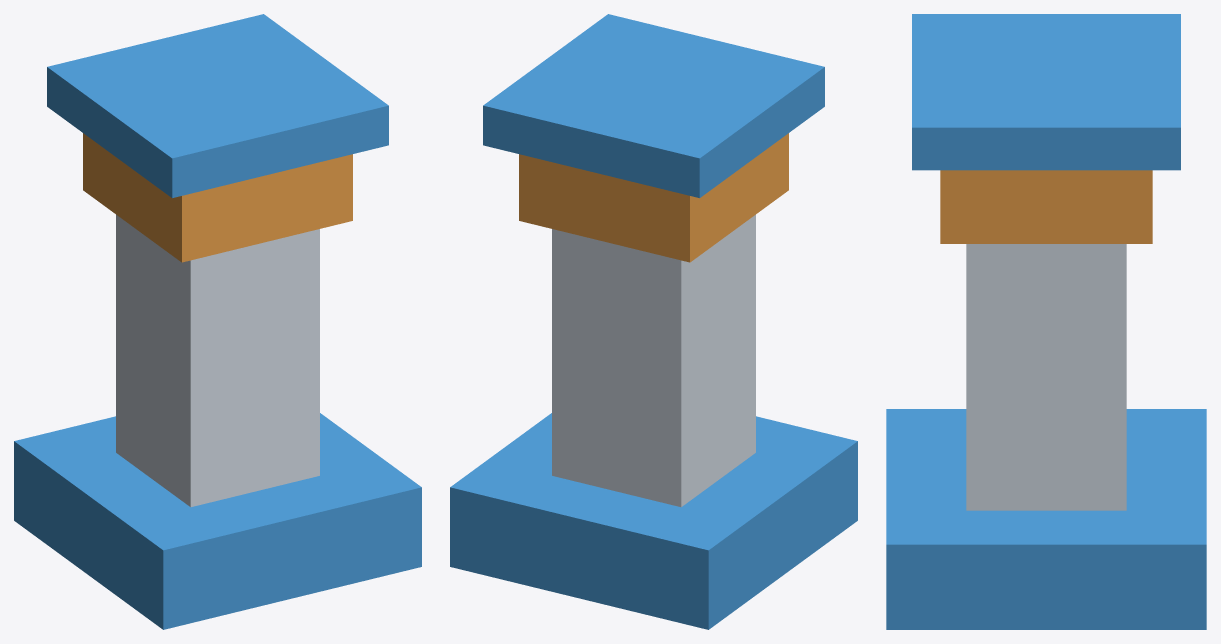
Rendered from beacon.glb.
3 renders of one model, left to right at view 1: azimuth 30°, elevation 25°; view 2: azimuth 150°, elevation 25°; view 3: azimuth 270°, elevation 25°, orthographic. The views are drawn at different scales.
Parts seen in each view (by area): view 1: Base, Torre, Cobertura, Lanterna; view 2: Base, Torre, Cobertura, Lanterna; view 3: Base, Torre, Cobertura, Lanterna.
Boxes of the visible parts, x1,y1,x2,y2 form: Base: (14, 413, 421, 629); Torre: (116, 214, 319, 507); Cobertura: (47, 14, 388, 198); Lanterna: (83, 133, 352, 262); Base: (450, 413, 857, 629); Torre: (552, 214, 755, 507); Cobertura: (483, 14, 824, 198); Lanterna: (519, 133, 788, 262); Base: (886, 409, 1206, 629); Torre: (966, 244, 1126, 510); Cobertura: (912, 14, 1180, 170); Lanterna: (940, 170, 1152, 243).
Bounding box in the file's own units: 1.36 × 2.3 × 1.36.
